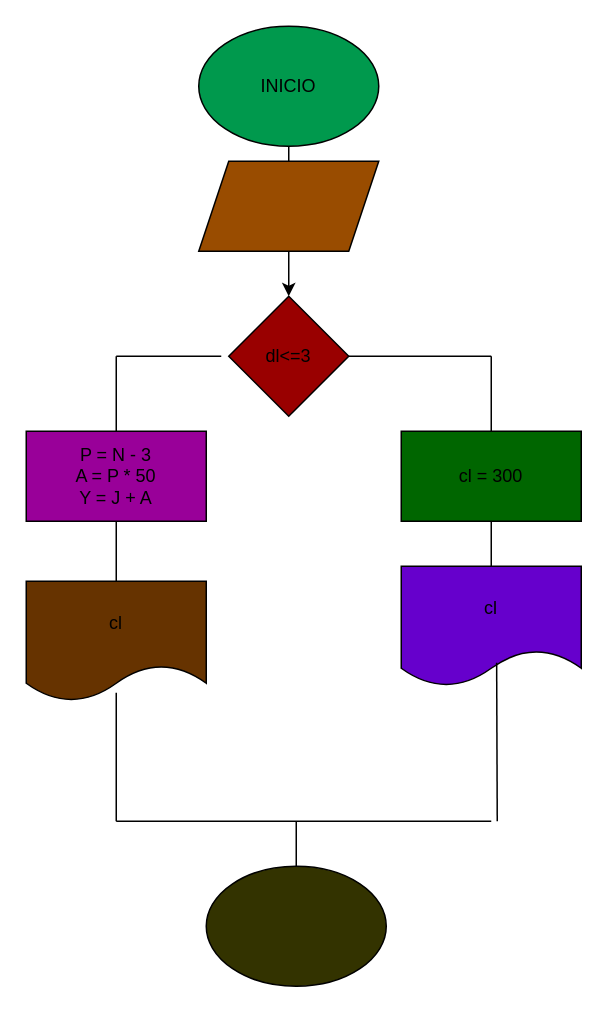
Image size: 608x1013. Some labels were removed from this diagram. The centre of each missing label's shape, as x and y in pixels:
dl: (x=288, y=205)
FIN: (x=295, y=925)
